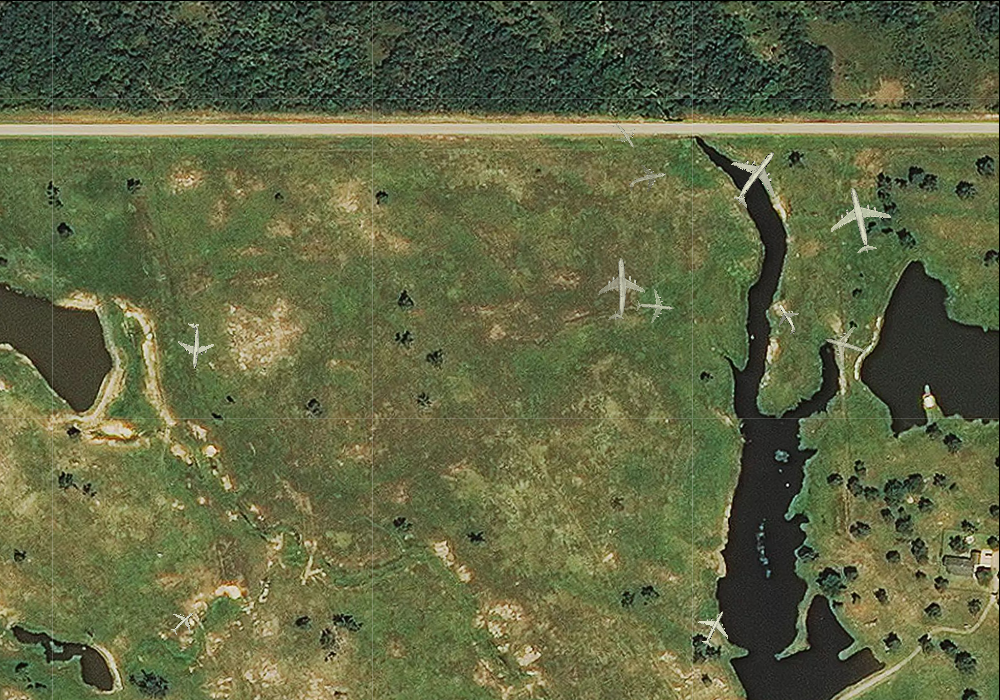plane: (714, 135, 798, 220), (822, 180, 898, 259), (589, 256, 648, 321), (819, 319, 873, 372), (689, 603, 739, 653), (171, 321, 217, 369), (624, 158, 670, 200), (766, 297, 807, 340), (604, 114, 644, 155), (634, 287, 675, 326), (163, 603, 202, 642)
